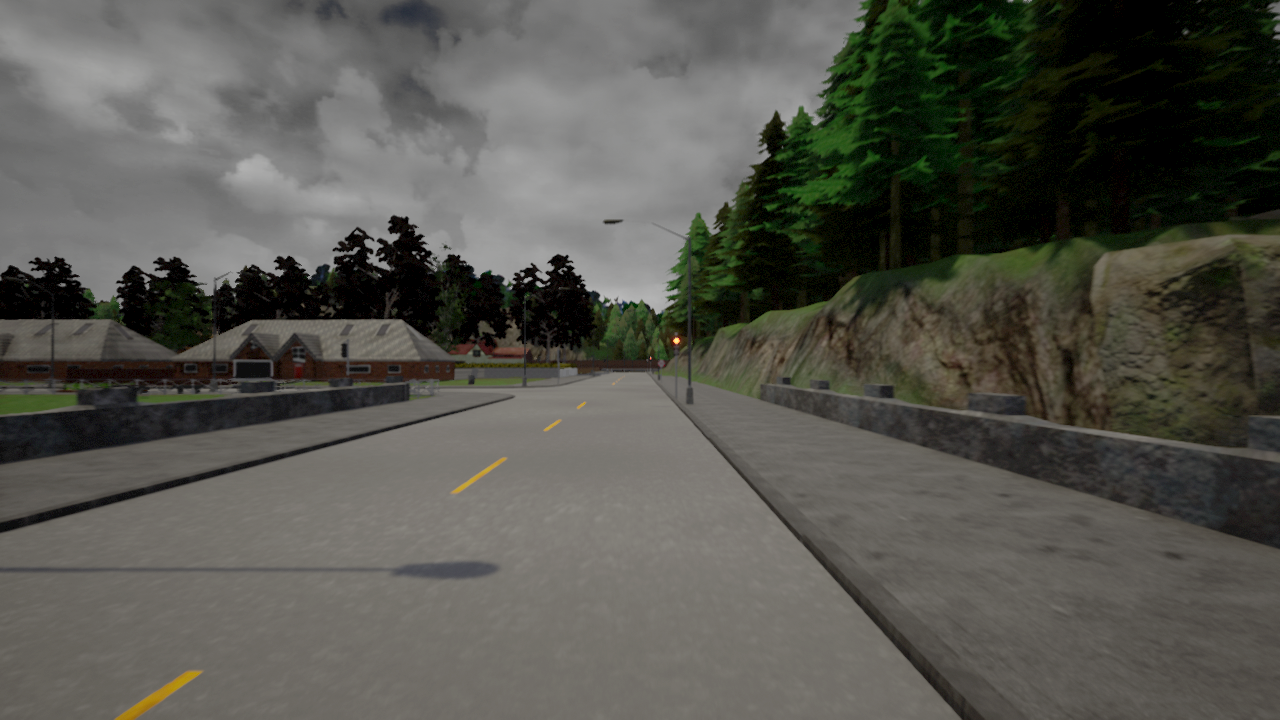red: (672, 335, 680, 356)
